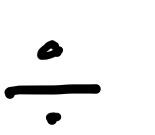div: (5, 42, 100, 121)
